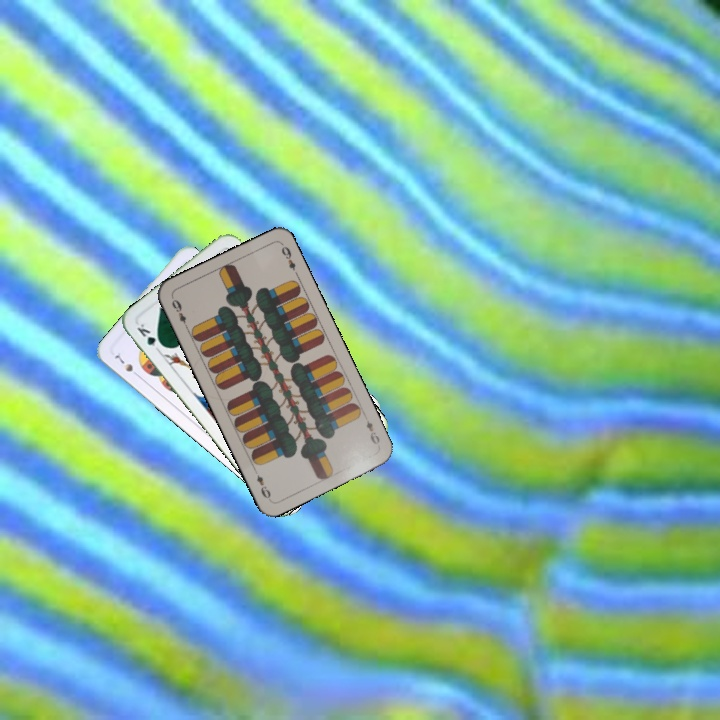E9: (168, 294, 191, 332), (362, 417, 382, 447)
GK: (133, 319, 167, 355)
S7: (110, 351, 143, 380)
